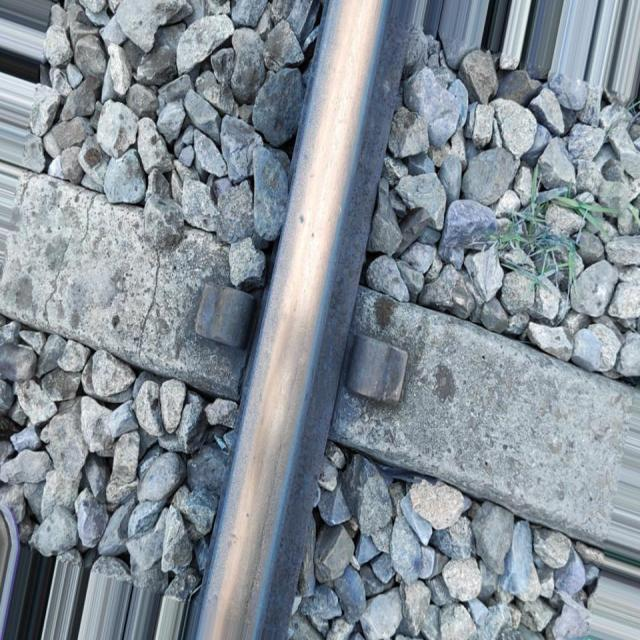Missing Fastener: (345, 319, 420, 432), (178, 260, 256, 362)
